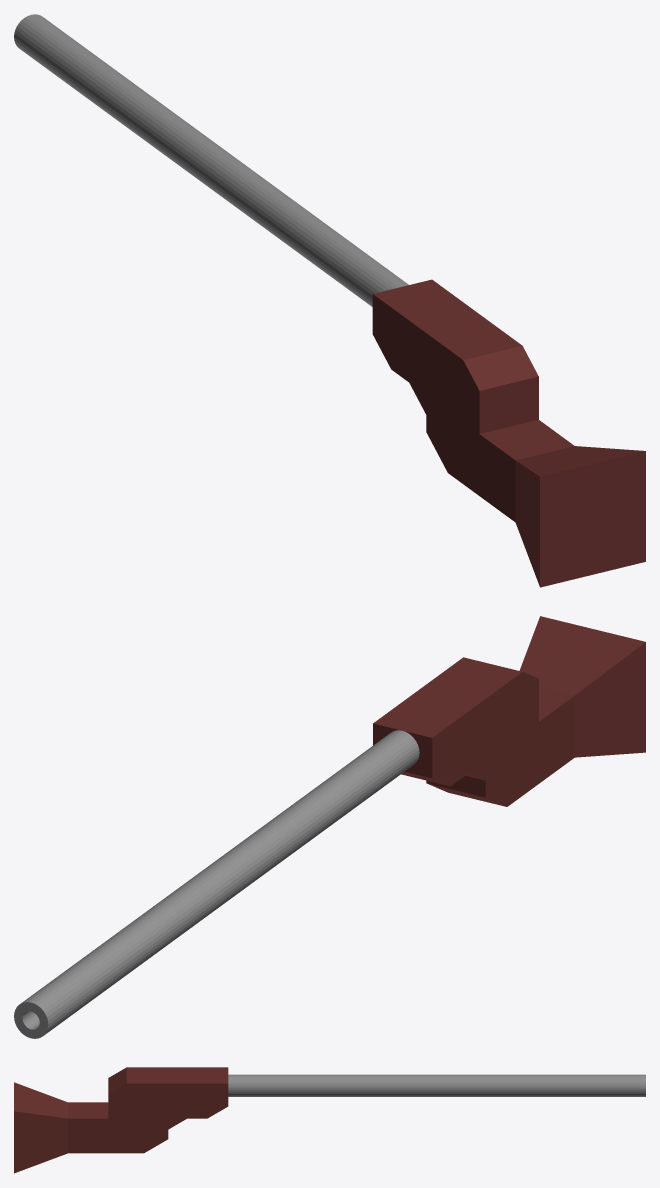
Rendered from simple_riffle.fbx.
The picture shows the model from 3 angles, top to bottom: view 1: azimuth 30°, elevation 25°; view 2: azimuth 150°, elevation 25°; view 3: azimuth 270°, elevation 25°; orthographic projection. The views are drawn at different scales.
Visible parts, largest first — view 1: riffle; view 2: riffle; view 3: riffle.
Boxes of the visible parts, x1,y1,x2,y2 form: riffle: [14, 14, 645, 587]; riffle: [14, 616, 645, 1038]; riffle: [14, 1067, 645, 1173].
Bounding box in the file's own units: 47.32 × 63.42 × 435.
